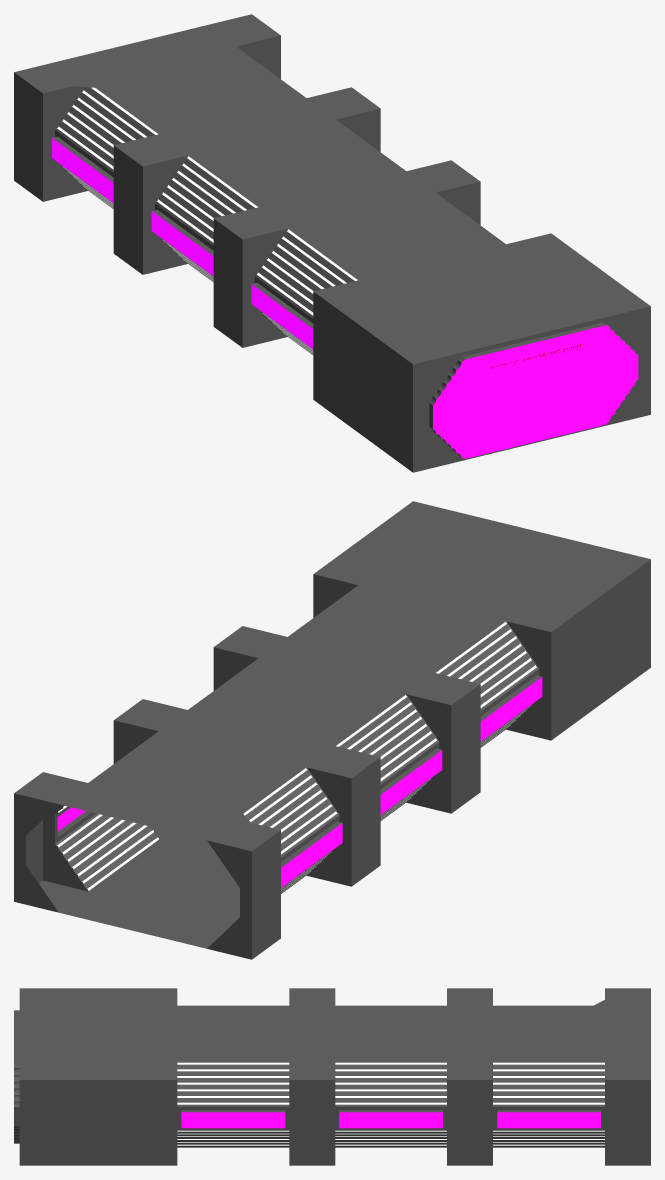
3 renders of one model, top to bottom at view 1: azimuth 30°, elevation 25°; view 2: azimuth 150°, elevation 25°; view 3: azimuth 270°, elevation 25°, orthographic. The views are drawn at different scales.
Parts seen in each view (by area): view 1: Tunel-v2-1; view 2: Tunel-v2-1; view 3: Tunel-v2-1.
Boxes of the visible parts, x1,y1,x2,y2 form: Tunel-v2-1: (14, 14, 650, 472); Tunel-v2-1: (14, 501, 650, 959); Tunel-v2-1: (14, 988, 650, 1165).
Bounding box in the file's own units: 14.88 × 6.48 × 43.62.
